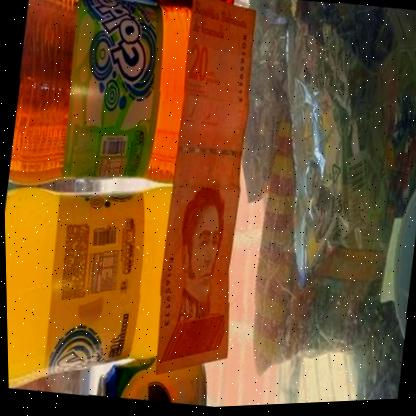twenty-front-vef: (138, 0, 277, 385)
